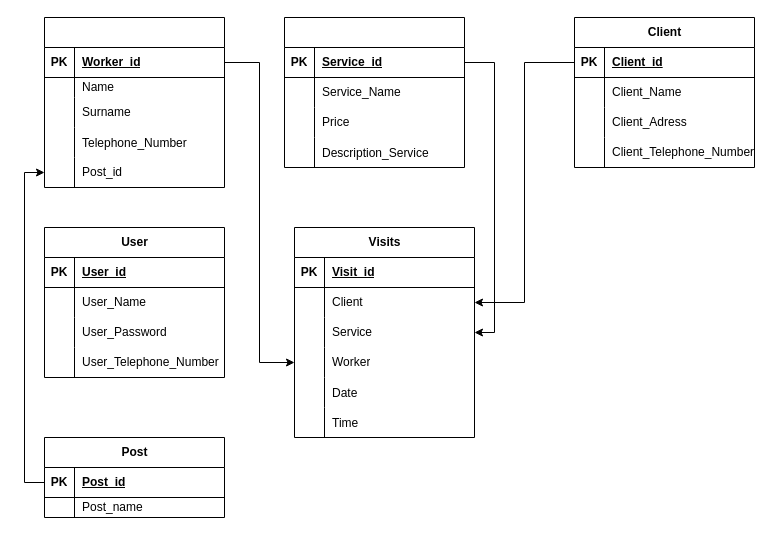
The diagram is 772 pixels wide and 535 high, and some of its shapes have lost their labels. Here are the shapes that lost their labels. From the top down, the box of each, then its label:
(44, 16, 224, 188): Workers
(284, 16, 464, 168): Services
